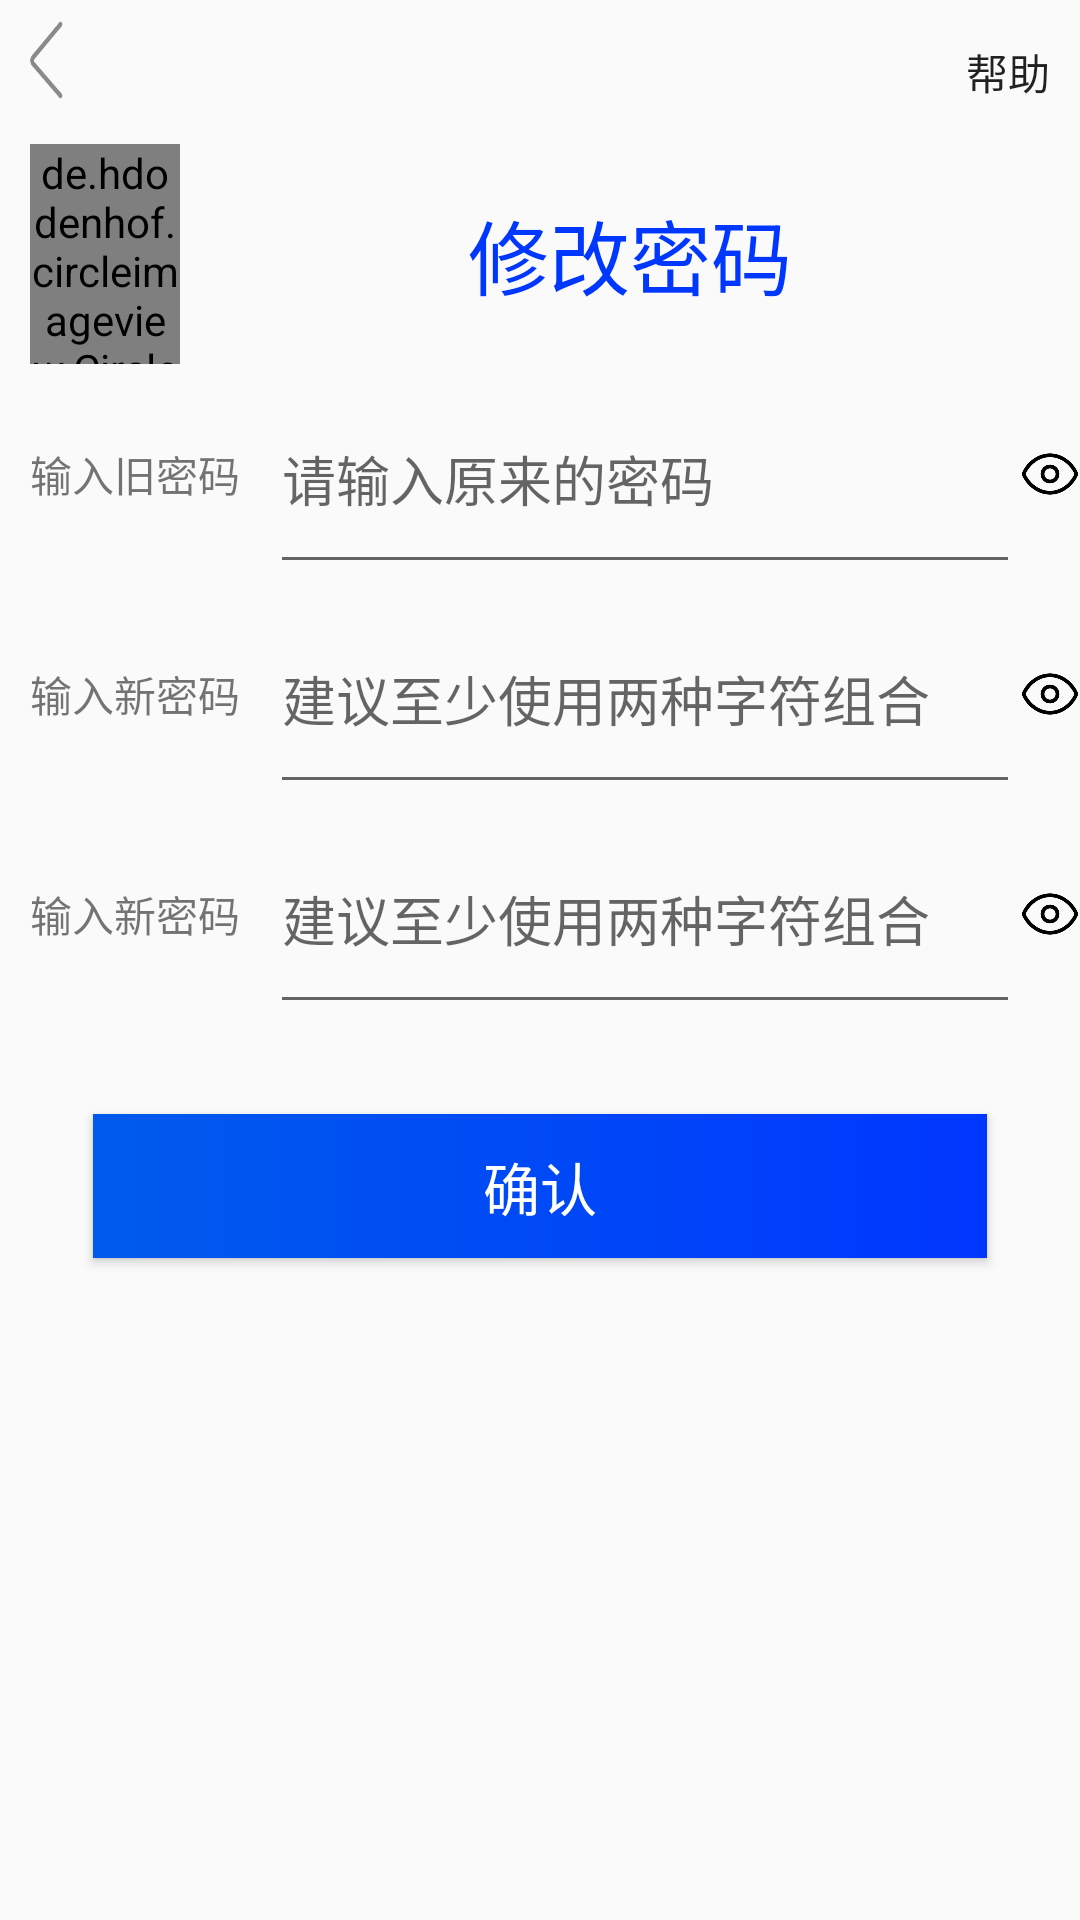

Icons on this 1080px×1920px Android screen, each with the point to tap as (x,y):
back: (46,60)
eye: (1050,474), (1050,694), (1050,914)
